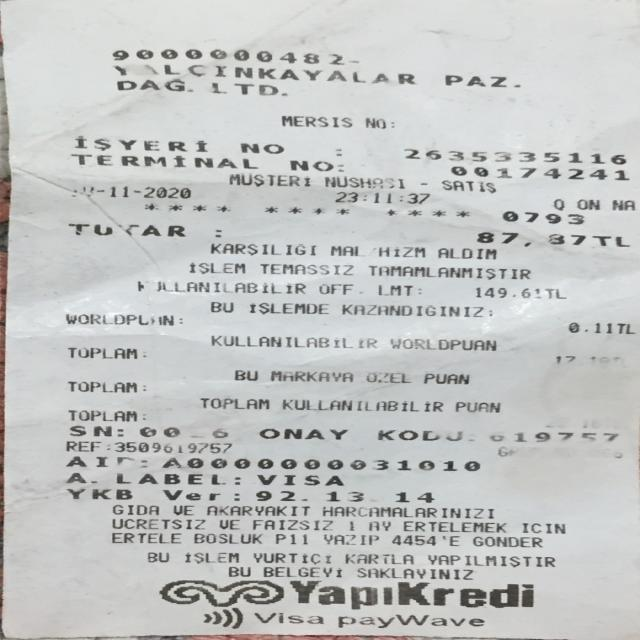text: (302, 578, 540, 612), (112, 62, 417, 88), (404, 144, 622, 168), (114, 46, 356, 67), (164, 459, 483, 471), (336, 608, 483, 630), (450, 164, 627, 181), (137, 277, 303, 295), (76, 133, 205, 155), (70, 154, 253, 169), (368, 263, 528, 280), (322, 504, 490, 520), (280, 396, 440, 412), (210, 334, 374, 349), (68, 220, 182, 237), (341, 302, 478, 316), (426, 552, 553, 567), (355, 566, 471, 581), (487, 430, 618, 443), (389, 336, 495, 352), (205, 503, 308, 519), (404, 518, 507, 534), (496, 446, 622, 459), (80, 184, 188, 199), (208, 241, 314, 256), (116, 440, 229, 454), (258, 424, 344, 442), (252, 517, 351, 532), (116, 471, 222, 485), (64, 312, 169, 326), (335, 189, 426, 205), (251, 606, 320, 627), (259, 261, 351, 276), (111, 515, 202, 530), (271, 368, 351, 384), (230, 171, 308, 187), (373, 428, 462, 442), (111, 78, 186, 94), (444, 71, 503, 91), (256, 473, 343, 486), (133, 426, 227, 438), (329, 175, 404, 190), (280, 112, 350, 128), (248, 300, 328, 314), (472, 532, 540, 548), (212, 79, 272, 97), (262, 565, 339, 579), (252, 550, 328, 564), (198, 394, 267, 409), (110, 529, 178, 544), (194, 530, 260, 545), (68, 408, 138, 422), (501, 211, 582, 223), (66, 453, 128, 468), (344, 551, 410, 565), (67, 380, 133, 393), (66, 486, 129, 499), (182, 261, 245, 274), (436, 246, 494, 260), (323, 531, 377, 546), (372, 245, 428, 259), (441, 177, 492, 192), (558, 320, 612, 334), (69, 346, 134, 357), (111, 502, 158, 517), (240, 139, 284, 155), (474, 285, 528, 298), (69, 422, 108, 440), (255, 488, 305, 501), (162, 488, 216, 500), (366, 370, 409, 385), (183, 551, 241, 562), (424, 371, 466, 386), (392, 532, 434, 547), (456, 399, 498, 413), (522, 520, 564, 534), (478, 230, 514, 246), (591, 232, 627, 248), (378, 282, 414, 298), (290, 158, 332, 171), (327, 489, 369, 502), (541, 233, 582, 246), (394, 489, 431, 502), (323, 281, 353, 297), (275, 531, 306, 545), (589, 356, 628, 367), (65, 439, 96, 452), (66, 471, 95, 484), (331, 243, 356, 257), (364, 520, 394, 531), (209, 300, 233, 313), (227, 565, 249, 578), (235, 368, 255, 382), (171, 503, 191, 517), (146, 549, 166, 563), (575, 198, 598, 210), (612, 198, 634, 210), (219, 517, 237, 531), (555, 354, 576, 365), (615, 322, 634, 334), (548, 197, 566, 209), (230, 606, 240, 626), (368, 115, 381, 128), (448, 533, 457, 547), (116, 424, 122, 439), (232, 473, 238, 485), (107, 440, 112, 452), (234, 488, 238, 500), (140, 455, 143, 468)
